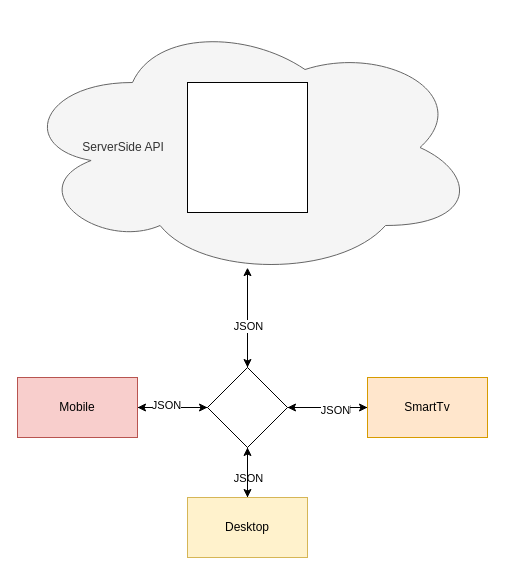
Some shapes in this 505 by 575 pixel diagram are drawn without their labels. The shapes that lost their labels are listed below. From the top down, each one's centre as x and y in pixels, then its label:
(x=247, y=147): Rotas: /mostrarVideos /video/:id /baixar/video/:id
(x=247, y=407): HTTP
